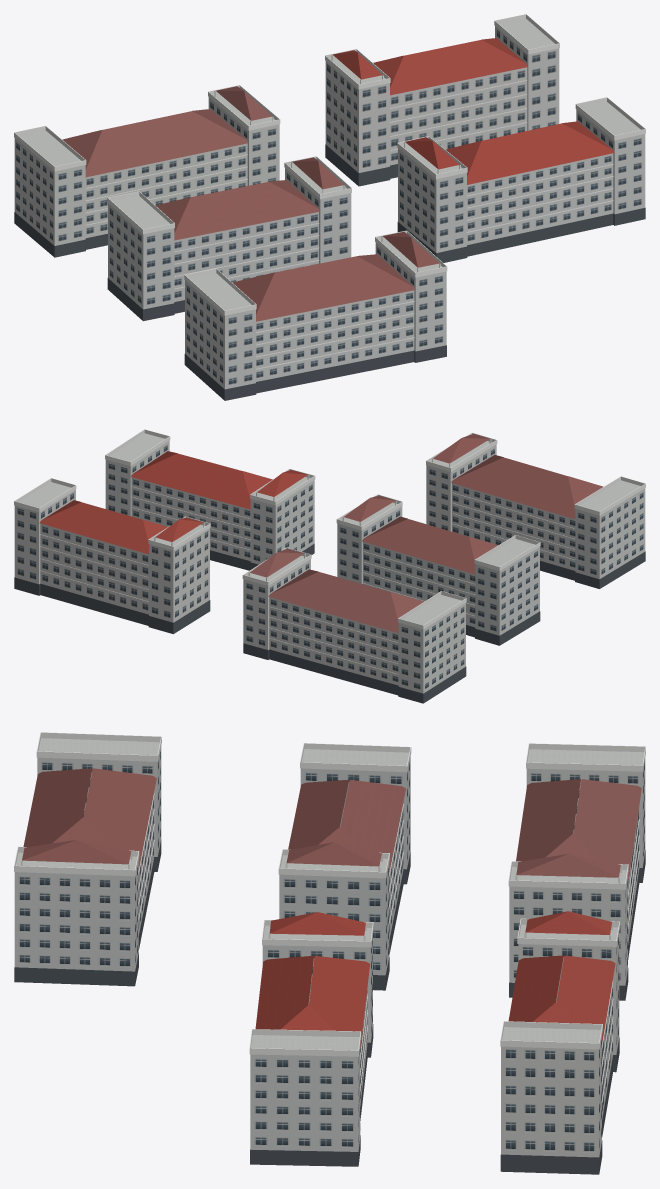
File: dorm_wenyuan_b2.glb
3 views of the same model, one above another, from view 1: azimuth 30°, elevation 25°; view 2: azimuth 150°, elevation 25°; view 3: azimuth 270°, elevation 25° (orthographic). The views are drawn at different scales.
Visible parts, largest first — view 1: 862959383, 862959382, 862959379, 862959380, 862959381; view 2: 862959379, 862959380, 862959383, 862959381, 862959382; view 3: 862959383, 862959382, 862959380, 862959379, 862959381.
Part boxes in pixels (bbox=[...]): 862959383: bbox=[184, 230, 447, 400]; 862959382: bbox=[397, 97, 645, 262]; 862959379: bbox=[14, 85, 280, 257]; 862959380: bbox=[325, 14, 559, 186]; 862959381: bbox=[107, 156, 351, 321]; 862959379: bbox=[242, 547, 466, 703]; 862959380: bbox=[14, 478, 210, 634]; 862959383: bbox=[426, 432, 645, 588]; 862959381: bbox=[336, 494, 540, 645]; 862959382: bbox=[105, 429, 315, 570]; 862959383: bbox=[14, 732, 161, 986]; 862959382: bbox=[249, 912, 373, 1166]; 862959380: bbox=[500, 911, 619, 1174]; 862959379: bbox=[508, 743, 645, 1000]; 862959381: bbox=[278, 743, 411, 990].
Size of the model in its own units: 139 by 29.8 by 114.
4 materials, 3 textured.
